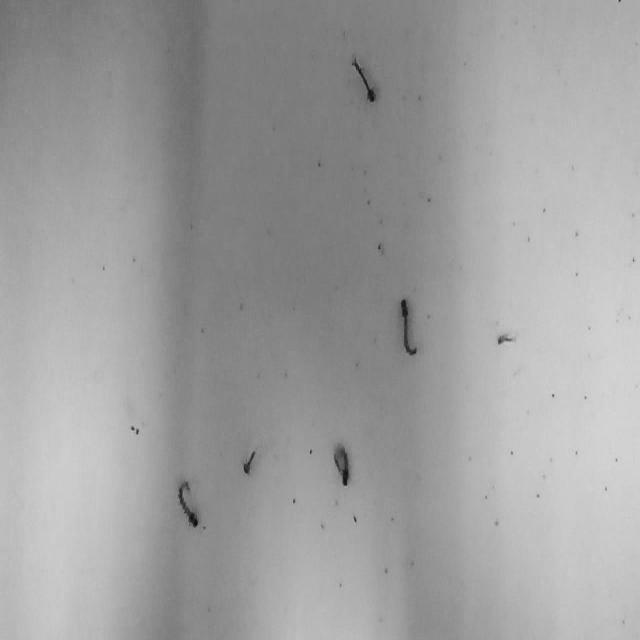larvas: (177, 479, 201, 526), (352, 57, 374, 101), (399, 298, 416, 354), (334, 442, 349, 484), (242, 449, 255, 474), (496, 332, 515, 344)
